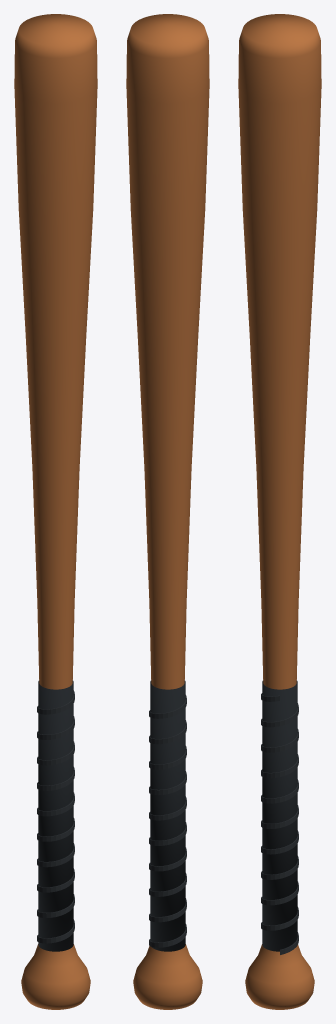
The model's file is ch1-baseball-bat.glb.
3 renders of one model, left to right at view 1: azimuth 90°, elevation 25°; view 2: azimuth 150°, elevation 25°; view 3: azimuth 270°, elevation 25°, orthographic.
Visible parts, largest first — view 1: Bat_Wood, Bat_Grip, Bat_GripWrap; view 2: Bat_Wood, Bat_Grip, Bat_GripWrap; view 3: Bat_Wood, Bat_Grip, Bat_GripWrap.
Part boxes in pixels (box(x1,y1,x2,y2)): Bat_Wood: box(14, 14, 97, 1009); Bat_Grip: box(38, 680, 73, 951); Bat_GripWrap: box(37, 690, 74, 943); Bat_Wood: box(126, 14, 209, 1009); Bat_Grip: box(150, 680, 185, 951); Bat_GripWrap: box(149, 695, 186, 947); Bat_Wood: box(238, 14, 321, 1009); Bat_Grip: box(262, 680, 297, 951); Bat_GripWrap: box(261, 693, 298, 954).
Bounding box in the file's own units: 0.067 × 0.864 × 0.067.
